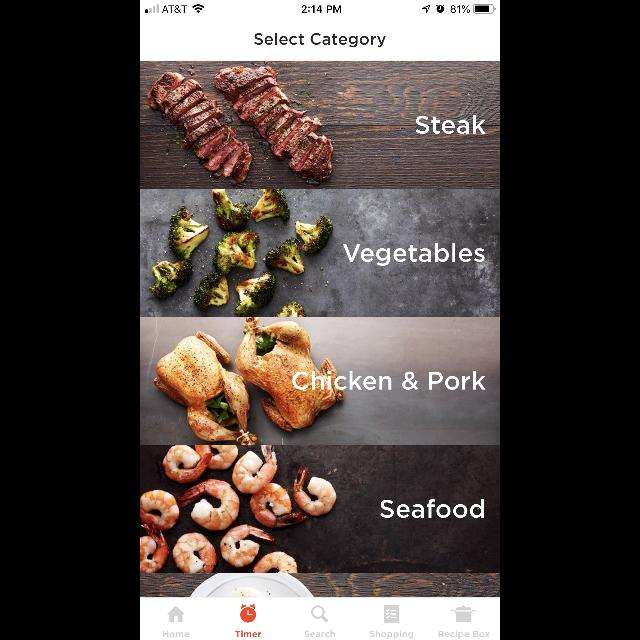icon: (167, 606, 185, 622), (240, 604, 256, 622), (384, 605, 400, 623), (312, 606, 328, 622)
image: (140, 446, 500, 572), (140, 62, 500, 188), (140, 190, 500, 316), (140, 318, 500, 444), (140, 573, 500, 597), (452, 606, 476, 622)
text: (292, 372, 486, 391), (343, 244, 485, 266), (254, 32, 386, 48), (380, 499, 484, 518), (415, 116, 485, 134), (438, 630, 489, 638), (370, 630, 414, 638), (305, 630, 335, 638), (236, 630, 262, 638), (163, 631, 189, 637)
uppertaskbar: (140, 0, 500, 14)
